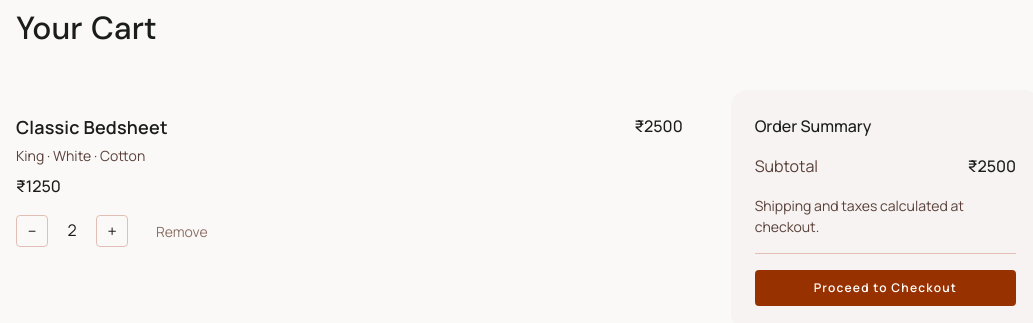
Test: CartPageLoggedIn › PATCHes the item and updates the displayed quantity on + click
Click the button named "Increase quantity".
click(112, 231)  # box x1=96 y1=215 x2=128 y2=247
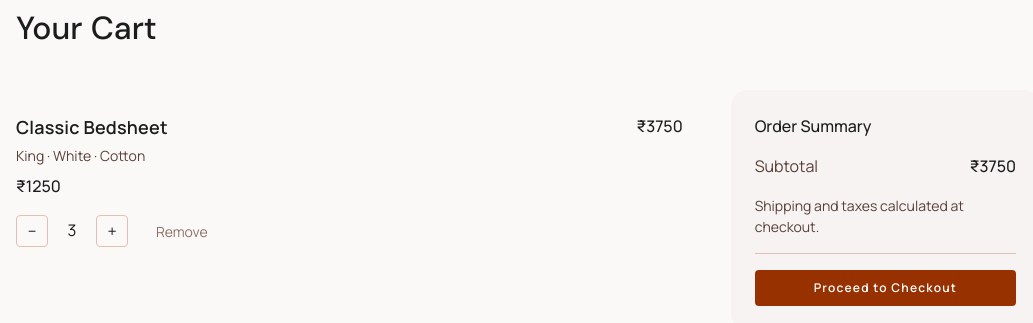
Expected: the text "3" is shown, x1=68 y1=219 x2=76 y2=241
